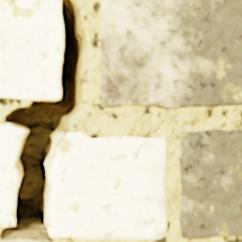brick: (100, 0, 241, 108), (179, 129, 241, 238), (0, 0, 63, 99), (0, 238, 52, 241)
broken_brick: (47, 132, 166, 238), (0, 125, 25, 225)
crack: (0, 1, 84, 239)
